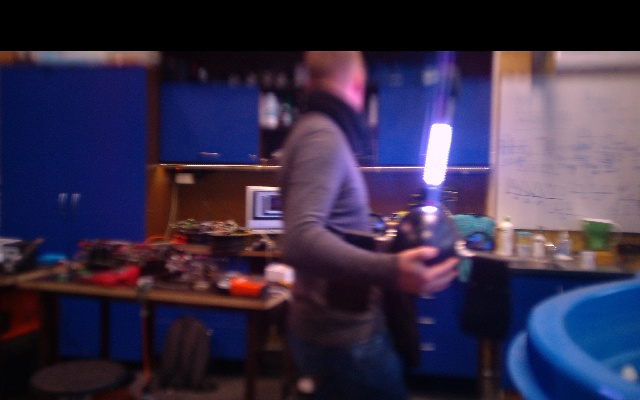white: (422, 124, 451, 185)
